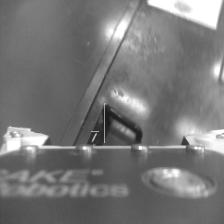Door Handle: (104, 103, 143, 143)
Lock: (92, 131, 100, 144)
